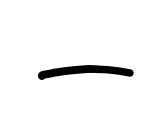minus: (37, 63, 134, 83)
